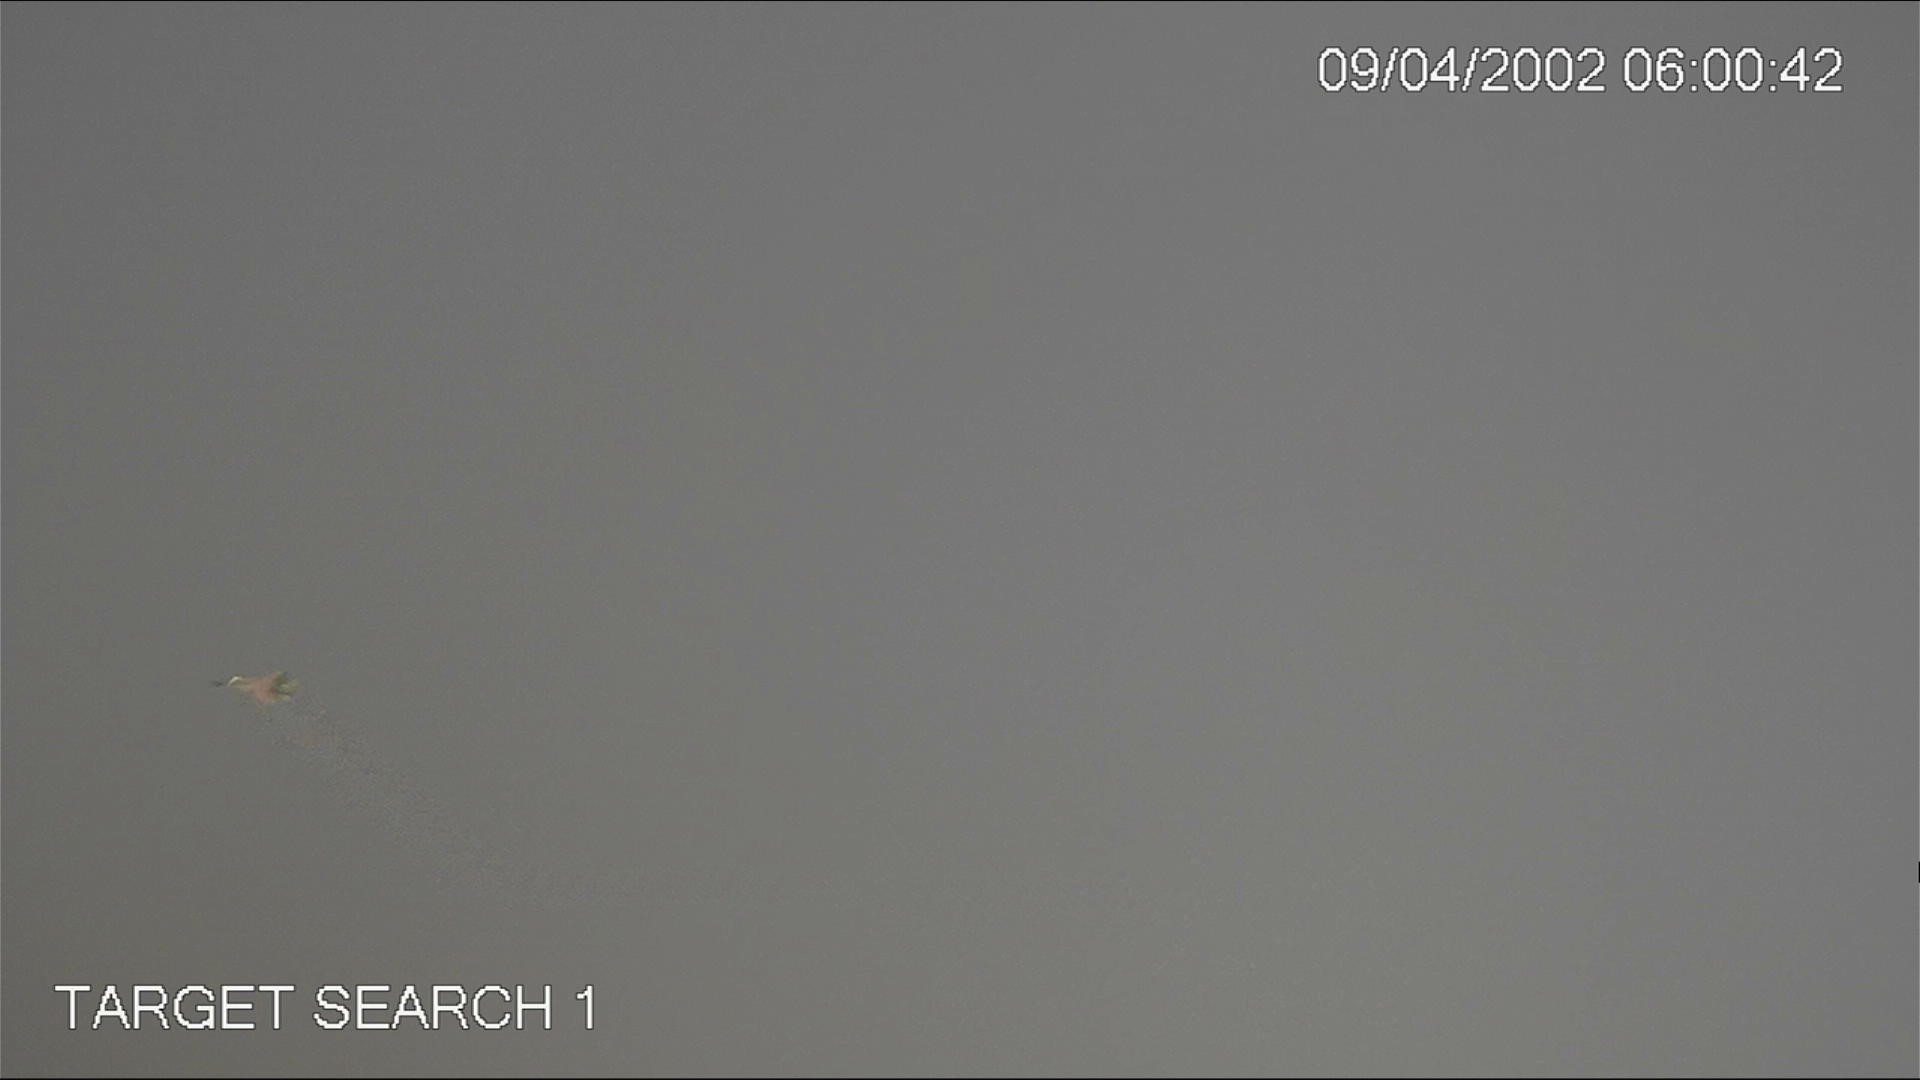SU_30: (216, 669, 293, 708)
